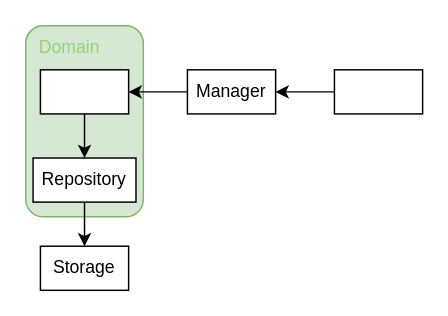
Some shapes in this 448 by 316 pixel diagram are drawn without their labels. The shapes that lost their labels are listed below. From the top down, each one's centre as x and y in pixels, then its label:
At (x=84, y=91): "Service".
At (x=378, y=91): "CLI".
